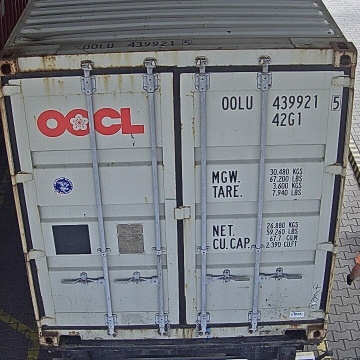serial_id: (222, 95, 340, 110)
